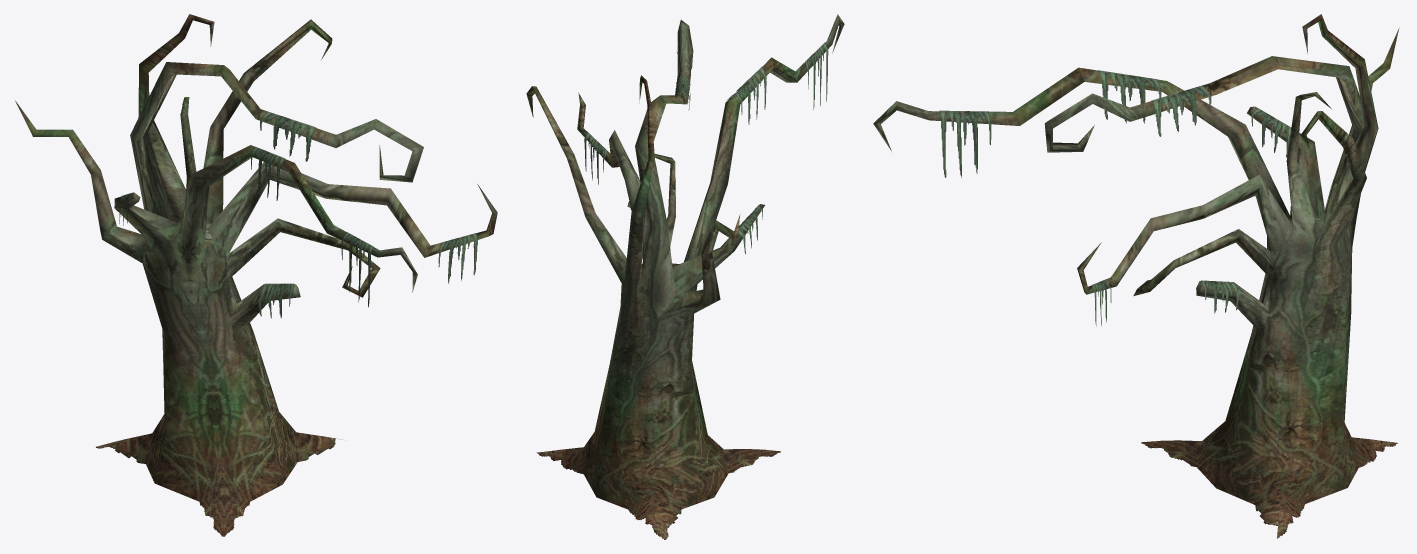
File: nml-bd082.glb
The picture shows the model from 3 angles, left to right: view 1: azimuth 30°, elevation 25°; view 2: azimuth 150°, elevation 25°; view 3: azimuth 270°, elevation 25°; orthographic projection. The views are drawn at different scales.
Visible parts, largest first — view 1: geom_node_0, geom_node_1; view 2: geom_node_0, geom_node_1; view 3: geom_node_0, geom_node_1.
Boxes of the visible parts, x1,y1,x2,y2 form: geom_node_0: [15, 14, 497, 536]; geom_node_1: [289, 163, 417, 307]; geom_node_0: [526, 20, 780, 539]; geom_node_1: [770, 14, 844, 109]; geom_node_0: [1044, 14, 1399, 538]; geom_node_1: [873, 68, 1084, 177].
Size of the model in its own units: 6.16 by 8.09 by 8.45.
2 materials, 2 textured.
